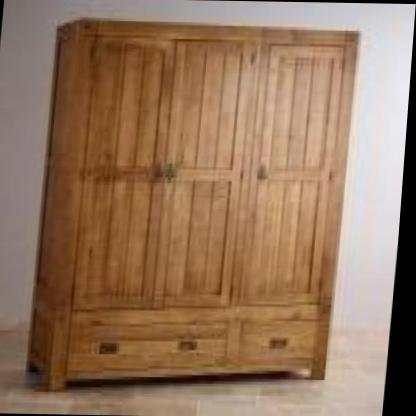Closet: (22, 10, 367, 398)
